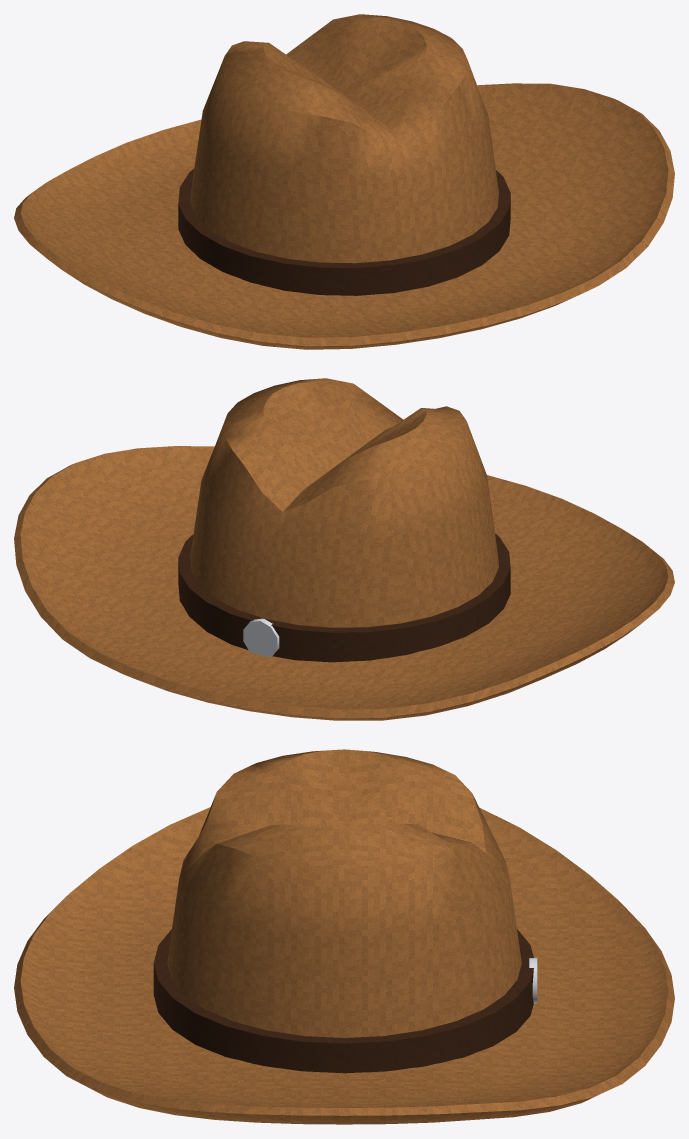
Rendered from x_hat_cowboy.glb.
The picture shows the model from 3 angles, top to bottom: view 1: azimuth 30°, elevation 25°; view 2: azimuth 150°, elevation 25°; view 3: azimuth 270°, elevation 25°; orthographic projection. The views are drawn at different scales.
Parts seen in each view (by area): view 1: hat_body.003, hat_band.001; view 2: hat_body.003, hat_band.001; view 3: hat_body.003, hat_band.001.
Part boxes in pixels (left/top/right/bottom): hat_body.003: left=14, top=14, right=674, bottom=349; hat_band.001: left=178, top=168, right=510, bottom=295; hat_body.003: left=14, top=378, right=674, bottom=720; hat_band.001: left=178, top=533, right=510, bottom=662; hat_body.003: left=14, top=749, right=674, bottom=1124; hat_band.001: left=153, top=929, right=537, bottom=1073.
Size of the model in its own units: 2 by 0.6221 by 1.68.
Materials: 3 (2 with a texture image).
